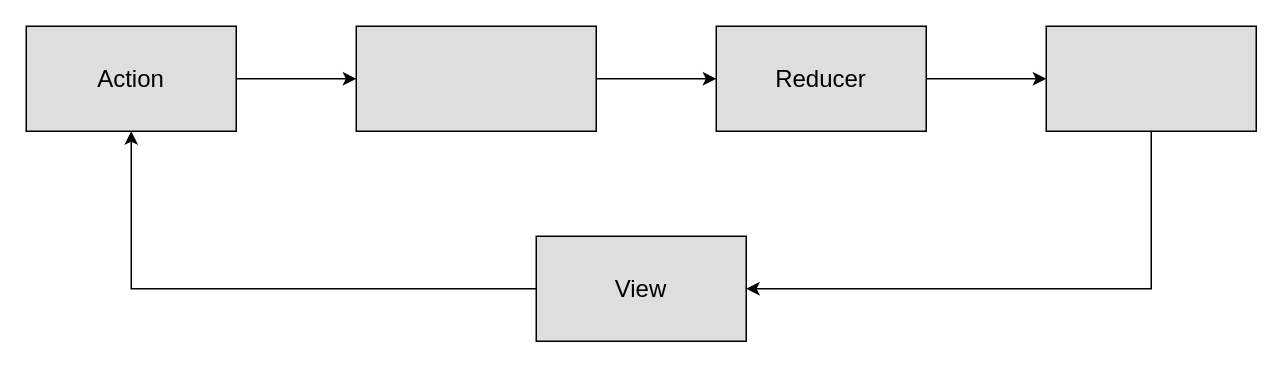
This 1283x368 diagram has some shape labels left out. The box of each missing label's shape, as (x1, y1, x2, y2) in pixels:
Middleware: (355, 25, 596, 131)
Store: (1045, 25, 1256, 131)
